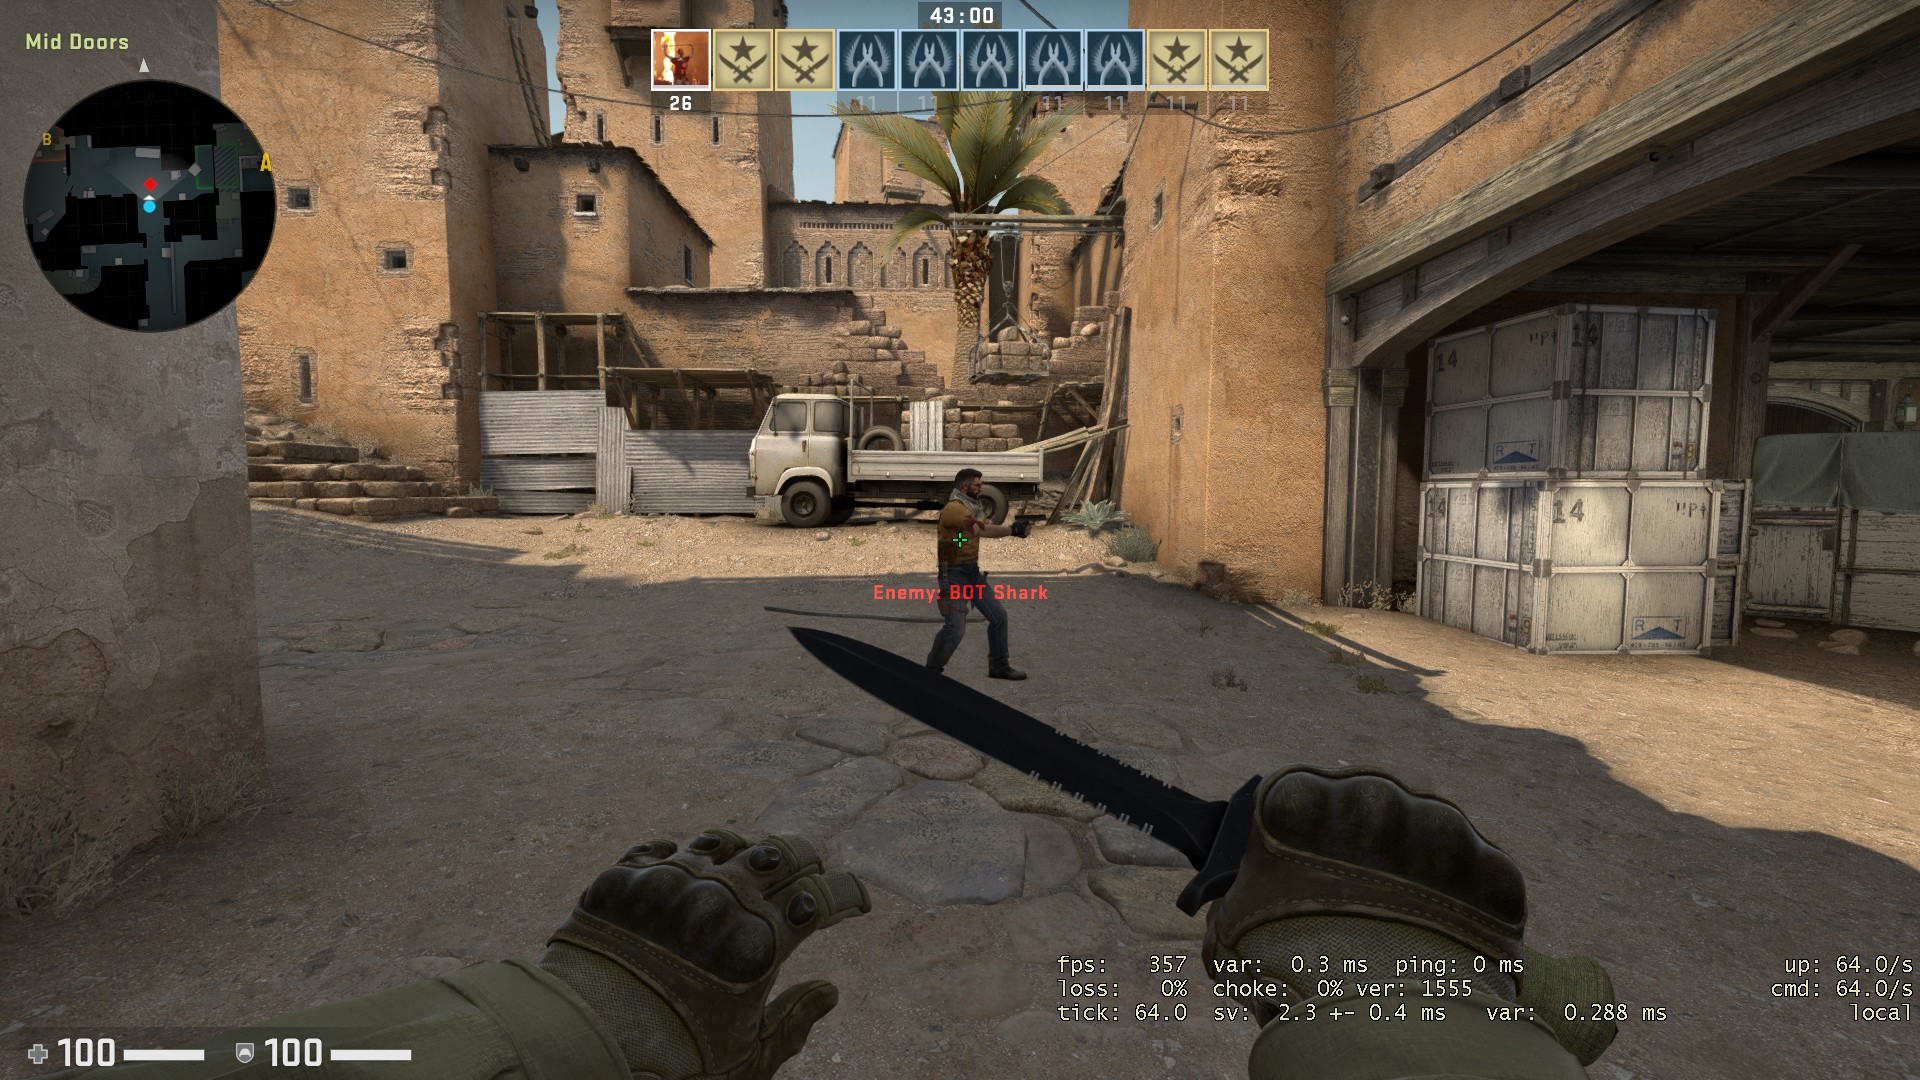player: (916, 466, 1034, 690)
